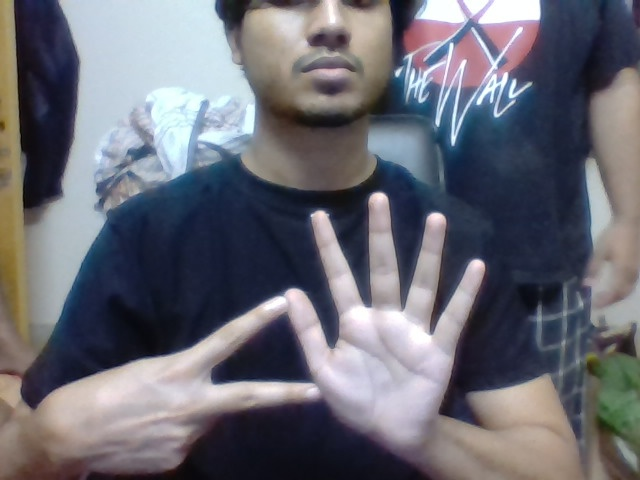N: (207, 291, 287, 417)
